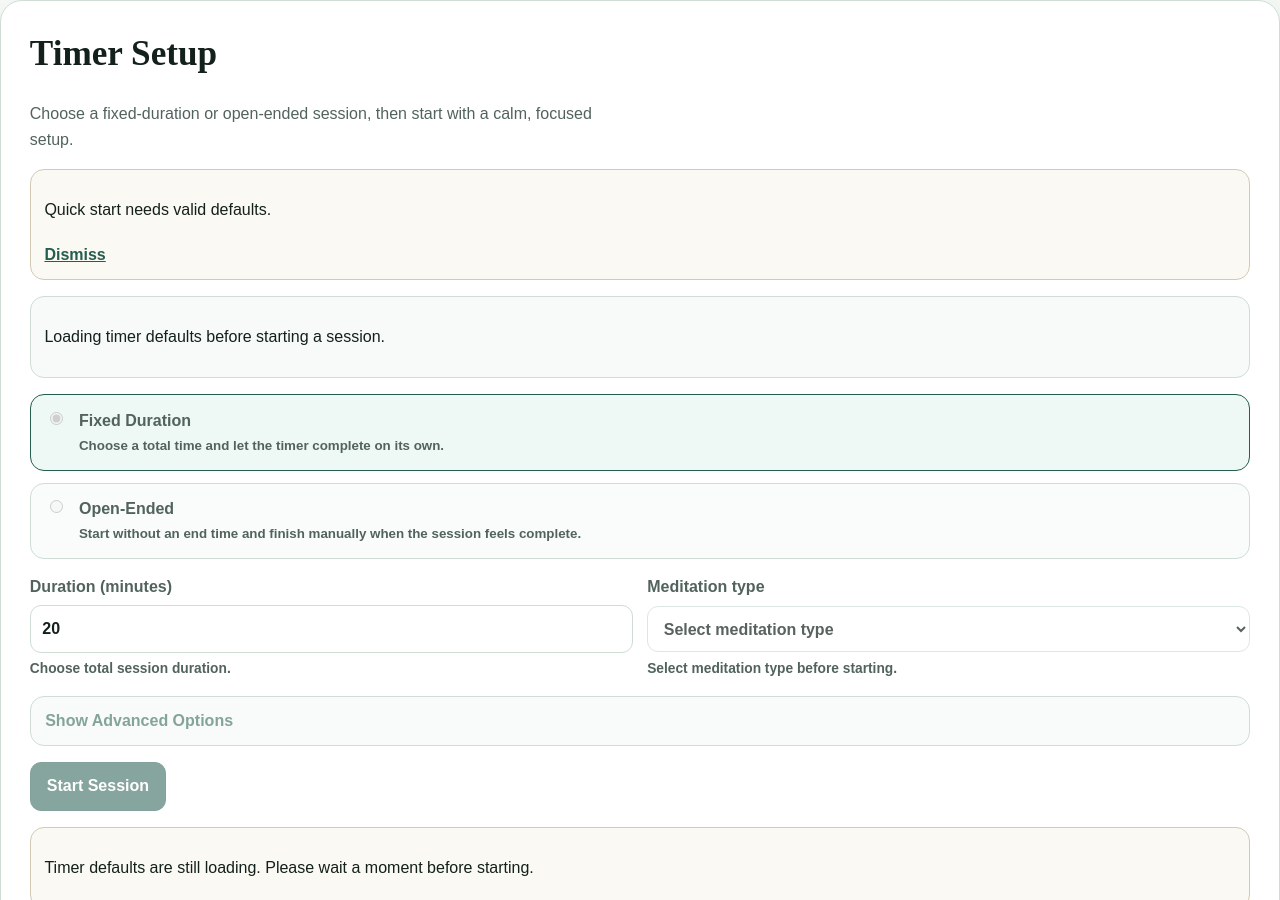
Scenario: PracticePage UX › renders and dismisses entry guidance passed from route state
Expected: the text "Quick start needs valid defaults." is shown, x1=44 y1=201 x2=271 y2=218
Click the button "Dismiss": click(75, 255) x1=44 y1=243 x2=106 y2=267
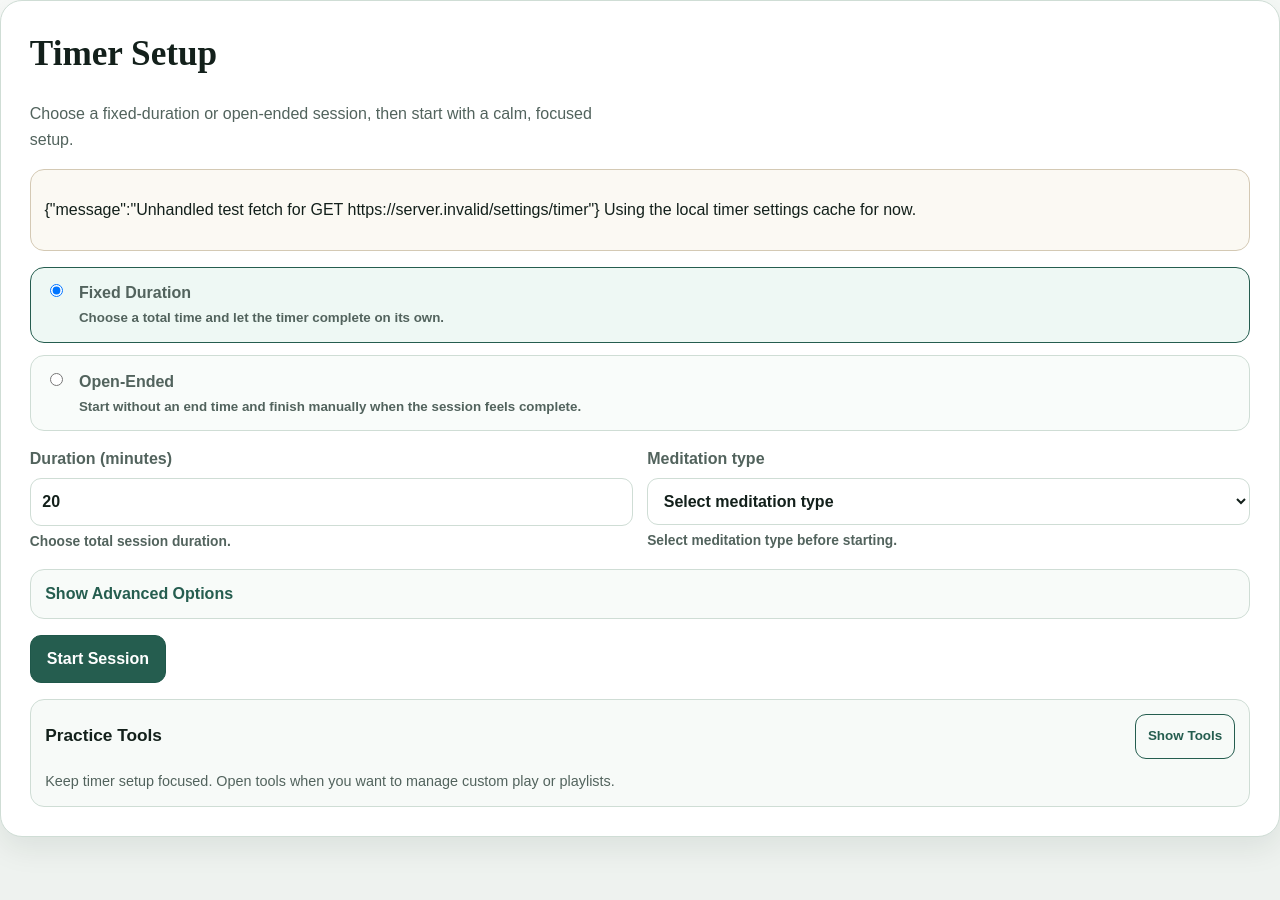
Now the text "Quick start needs valid defaults" is gone
